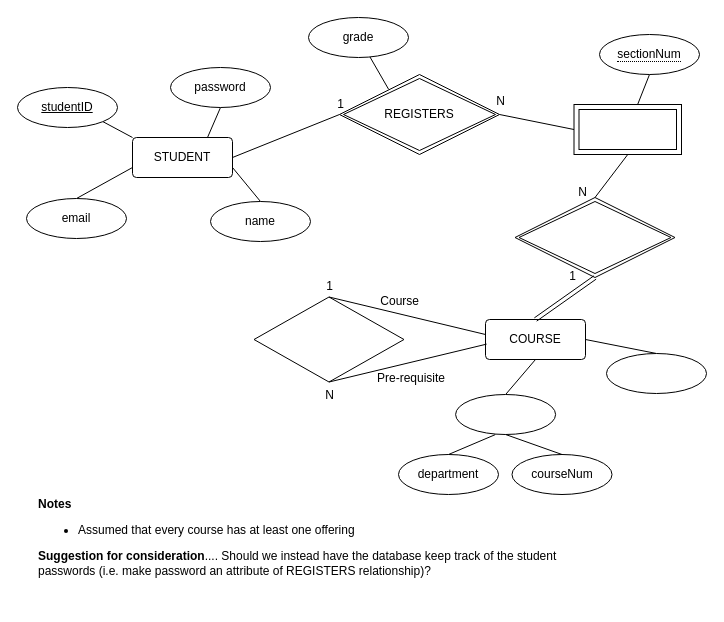
This 724x622 diagram has some shape labels left out. Here are the shapes that lost their labels. From the top down, the centre of each, then its label:
pixel 627 129: OFFERING
pixel 594 237: OFFERS
pixel 328 339: REQUIRES
pixel 656 373: courseName
pixel 505 414: courseID
